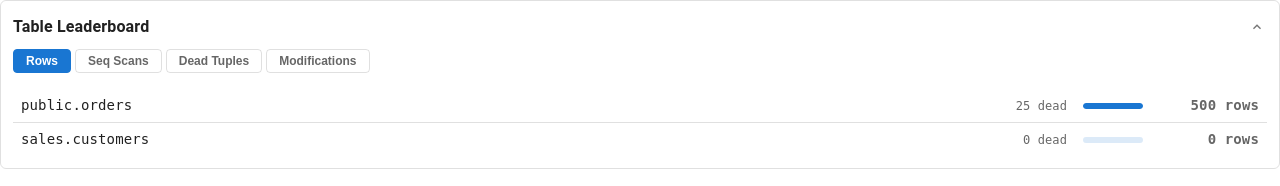
Test: TableLeaderboardSection › switches to the Seq Scans tab
Expected: the text "500 rows" is shown, [1190,97,1259,113]
Click the tab with aria-label "Sort tables by Seq Scans". click: [118, 61]
box: [75,49,162,73]
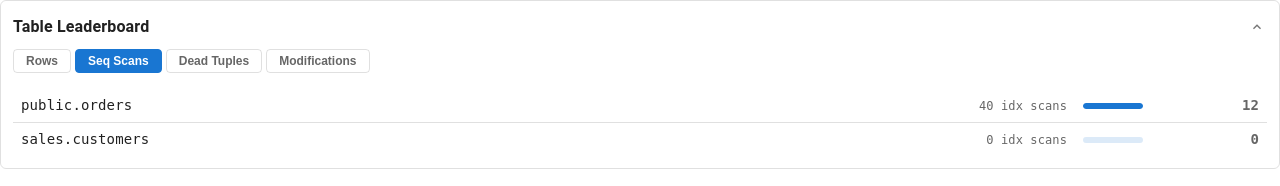
Now the text "12" is shown, box [1242,97,1259,113]
Now the text "40 idx scans" is shown, box [979,96,1067,114]
